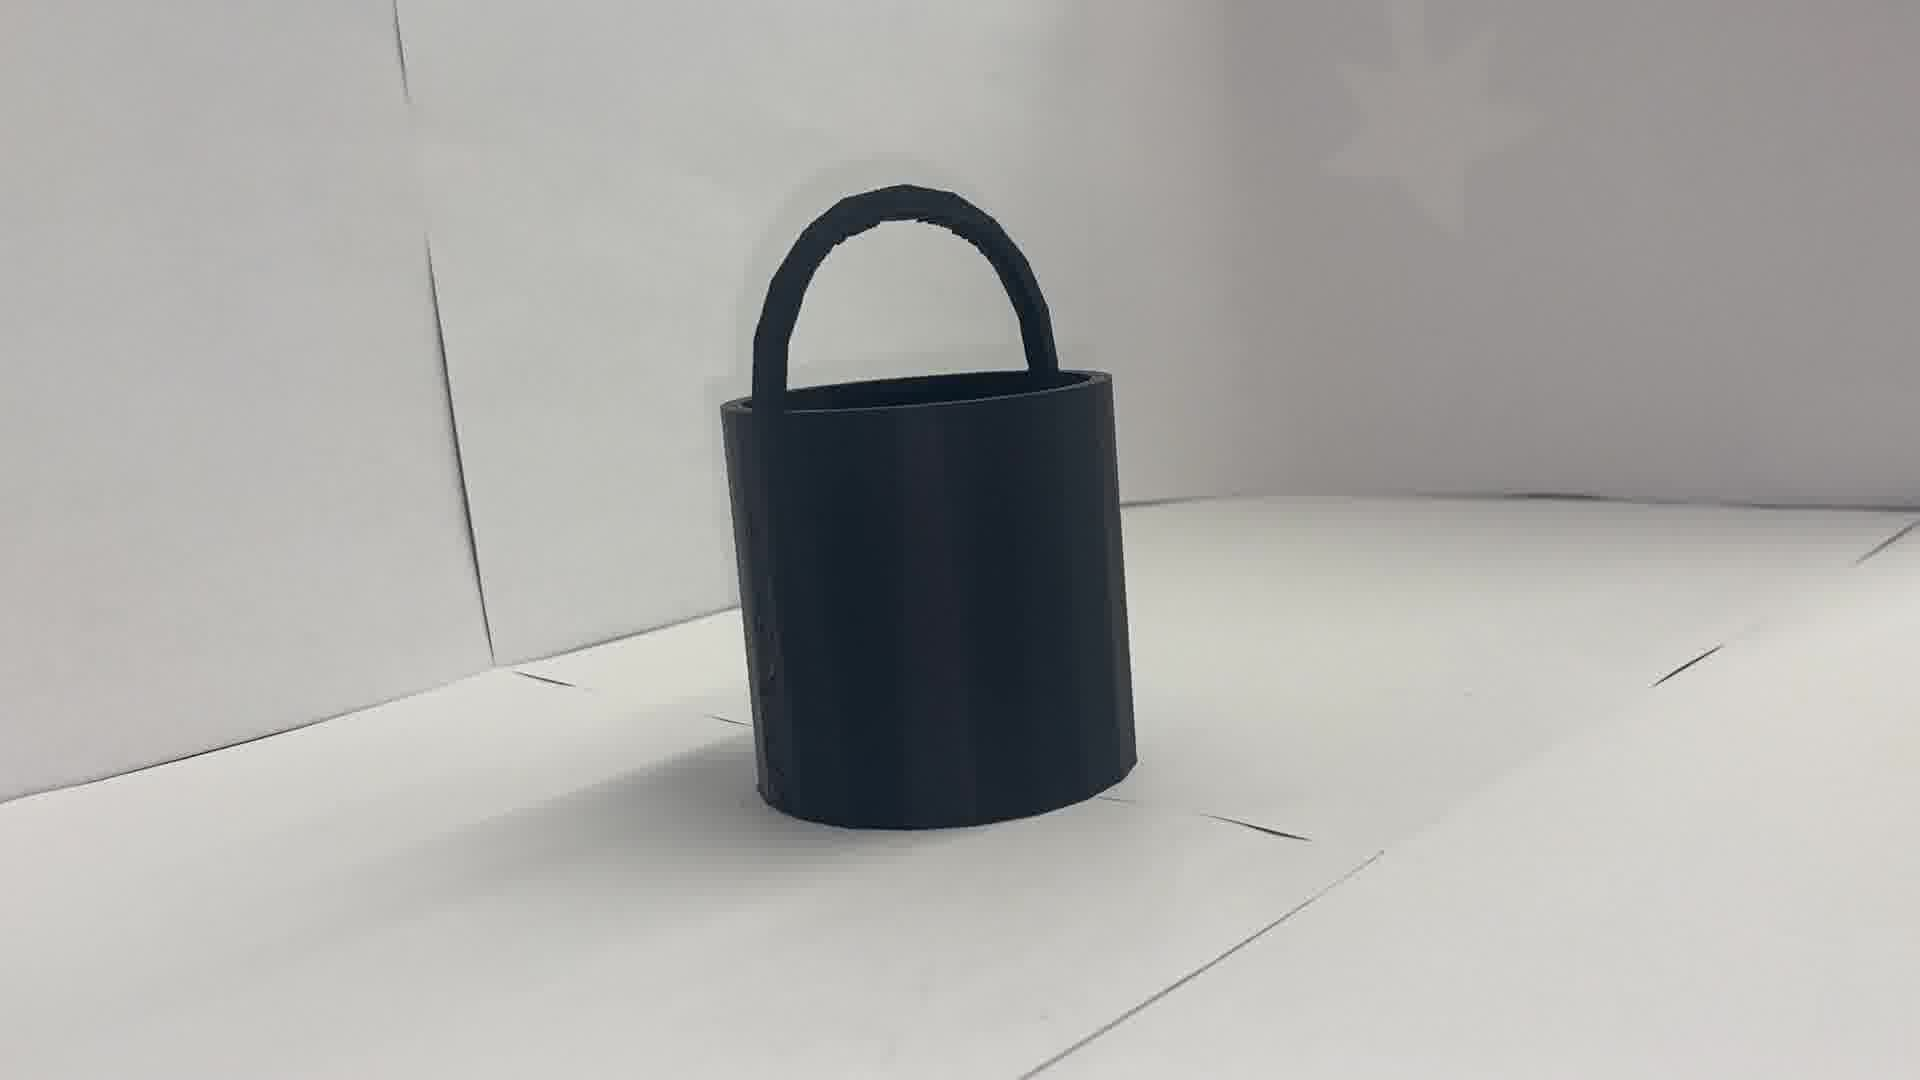bag: (716, 167, 1143, 843)
